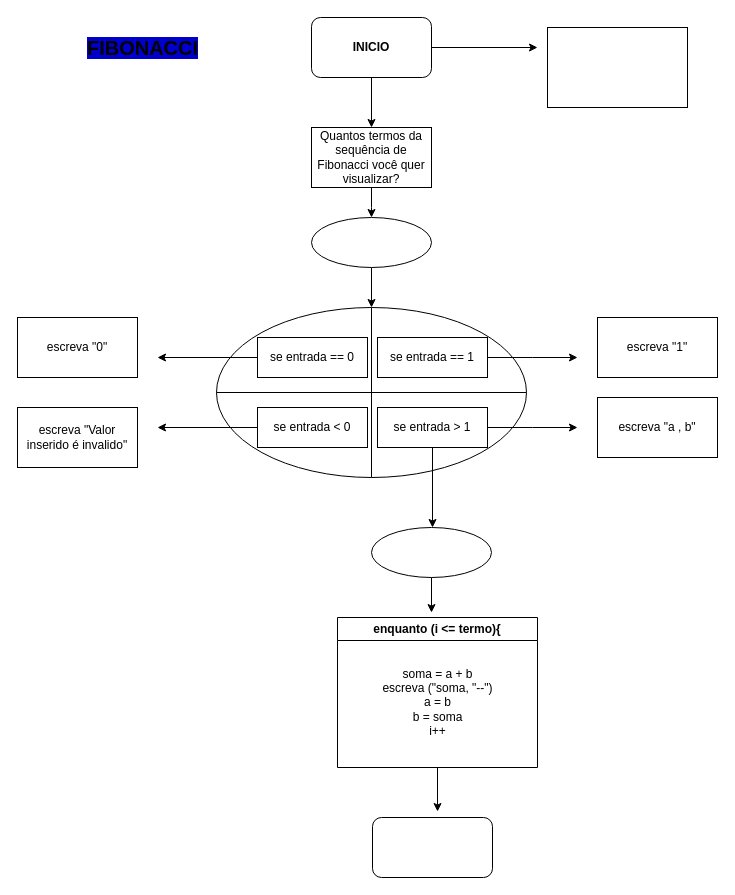
Image size: 735x895. Some labels were removed from this diagram. The centre of each missing label's shape, as x and y in pixels:
"a = 0 b = 1 soma = a + b termo = entrada - 2 i = 1" goes at point (617, 67).
"entrada <- resposta" goes at point (371, 242).
"FIM" goes at point (432, 847).
"termo = entrada - 2 i = 1" goes at point (431, 552).
